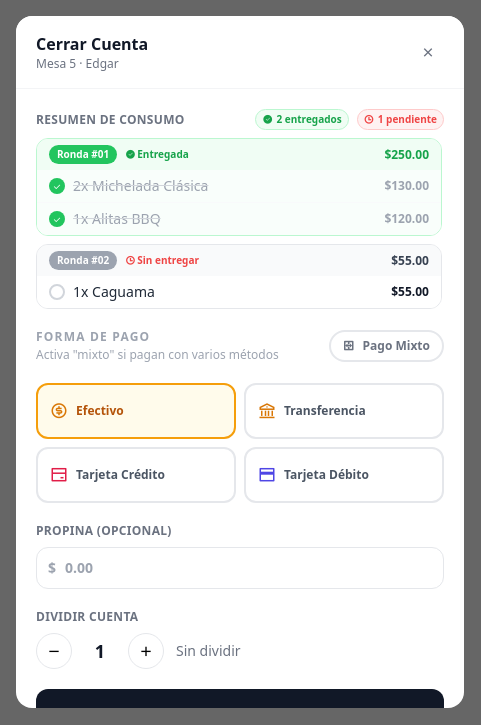
Test: CloseAccountModal — Payment Calculations › shows overpayment when mixed exceeds total
// Enable mixed mode
Click the button "Pago Mixto".
click(386, 346)  # box [328,330,444,362]
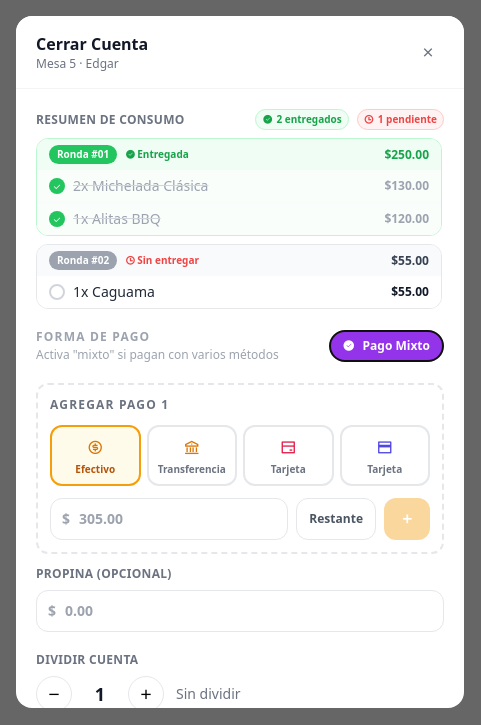
Type "400" into the number field with placeholder "305.00".
click(169, 519); type("400")  # box [50,498,288,540]
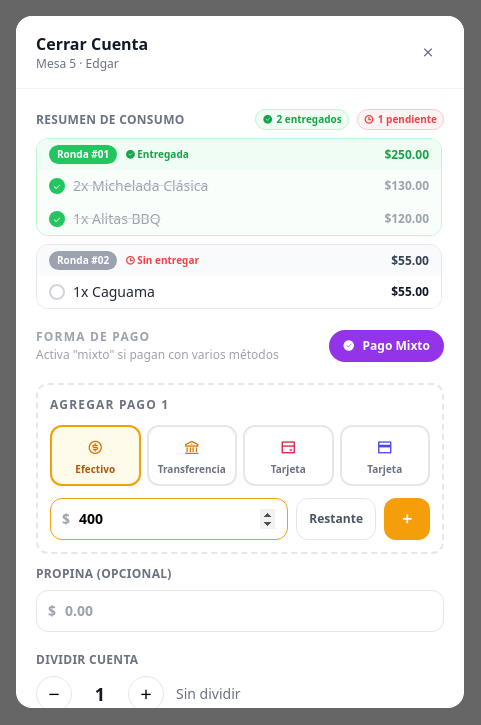
// Click add button (the + icon button in the mixed section)
Click the button without text below "Agregar Pago".
click(407, 519)  # box [384,498,430,540]
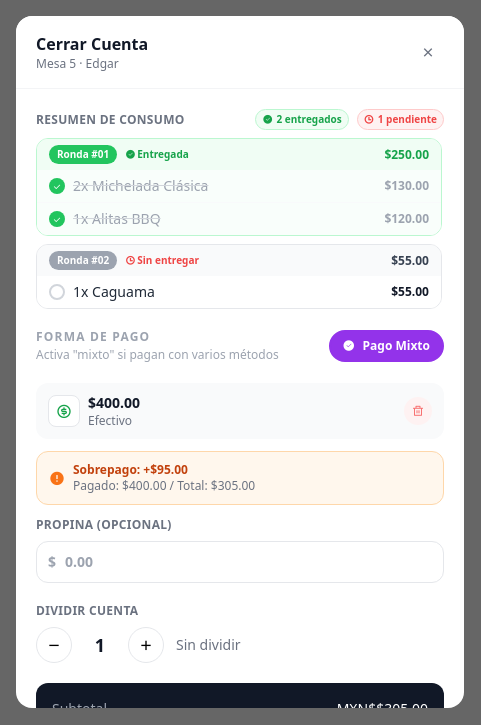
Now the text "Sobrepago: +$95.00" is shown, box [73,461,188,478]
